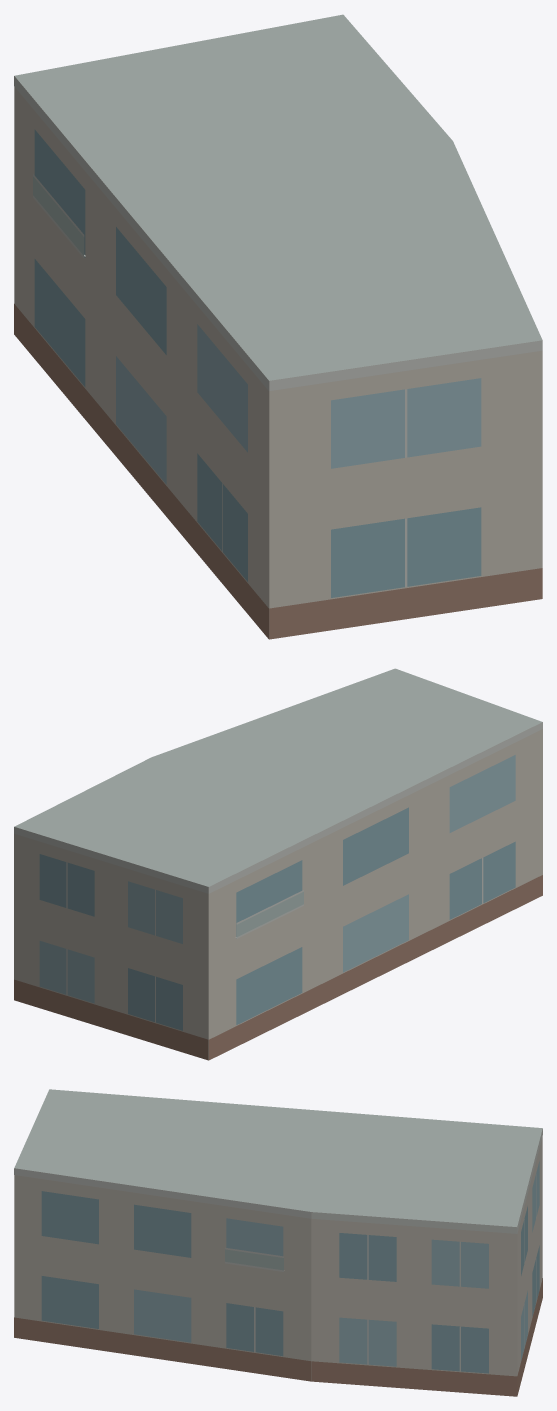
File: survey-upis-32577764.glb
The picture shows the model from 3 angles, top to bottom: view 1: azimuth 30°, elevation 25°; view 2: azimuth 150°, elevation 25°; view 3: azimuth 270°, elevation 25°; orthographic projection. The views are drawn at different scales.
Parts seen in each view (by area): view 1: survey-upis-32577764.tmp; view 2: survey-upis-32577764.tmp; view 3: survey-upis-32577764.tmp.
Part boxes in pixels (x1,y1,x2,y2): survey-upis-32577764.tmp: (14,14,542,639); survey-upis-32577764.tmp: (14,668,542,1060); survey-upis-32577764.tmp: (14,1089,542,1396).
Bounding box in the file's own units: 10.65 × 6.1 × 17.25.
